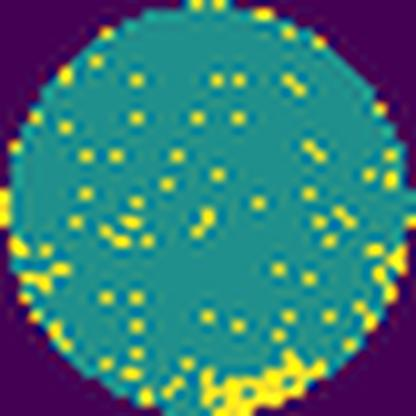Edge-Loc: (198, 348, 333, 416)
